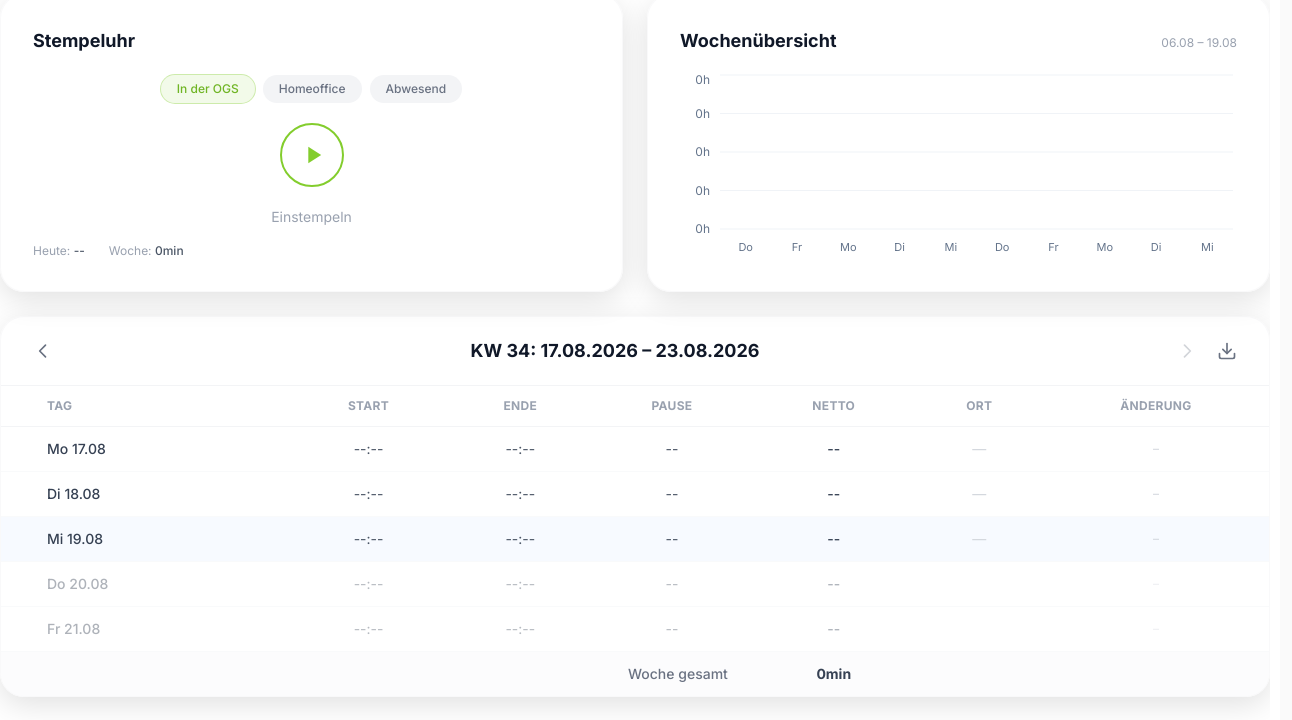
Test: TimeTrackingPage › WeekTable › navigates to previous week when button clicked
The image size is (1292, 720).
Click the button named "Vorherige Woche" at (43, 351), box [25,333,61,369]
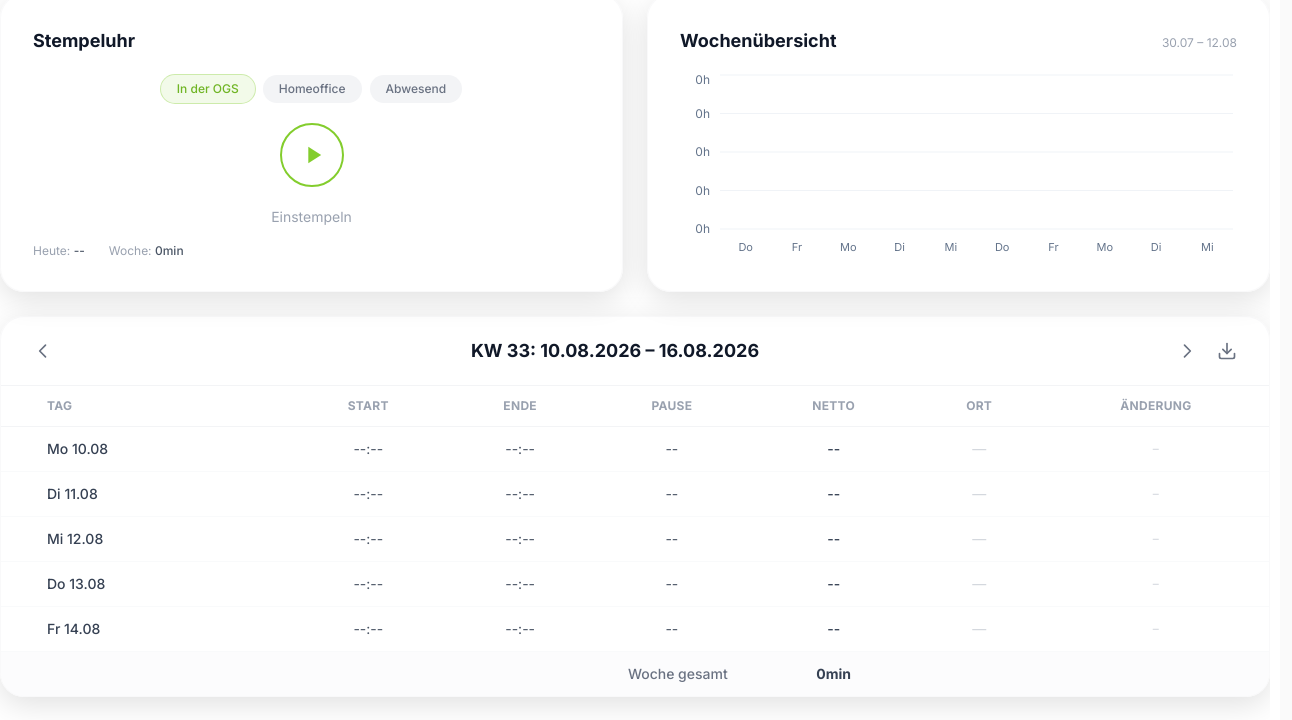
Result: the button named "Nächste Woche" is enabled at [1169,333,1205,369]
